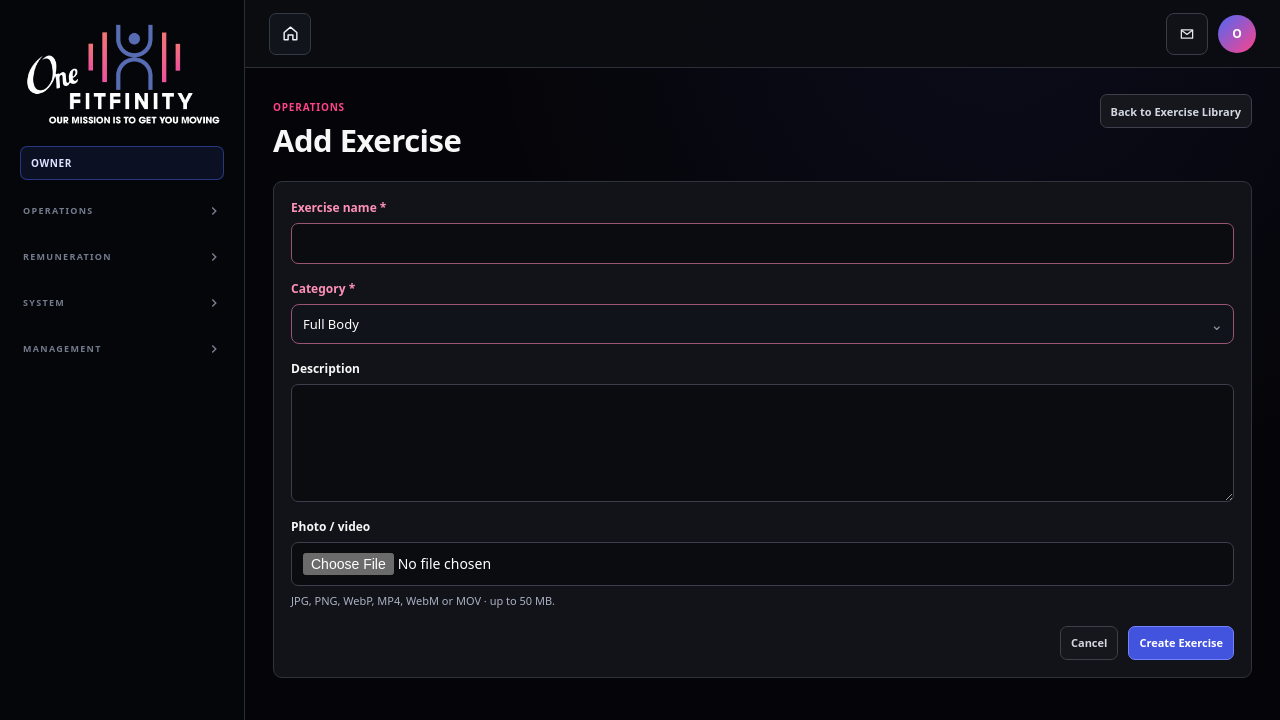
it: exercise library form and summary › freezes an uncertain API draft and checks its original values without another confirmation
Type "Original movement" into the field labelled "Exercise name" at coordinates (762, 244), box [291, 223, 1234, 264]
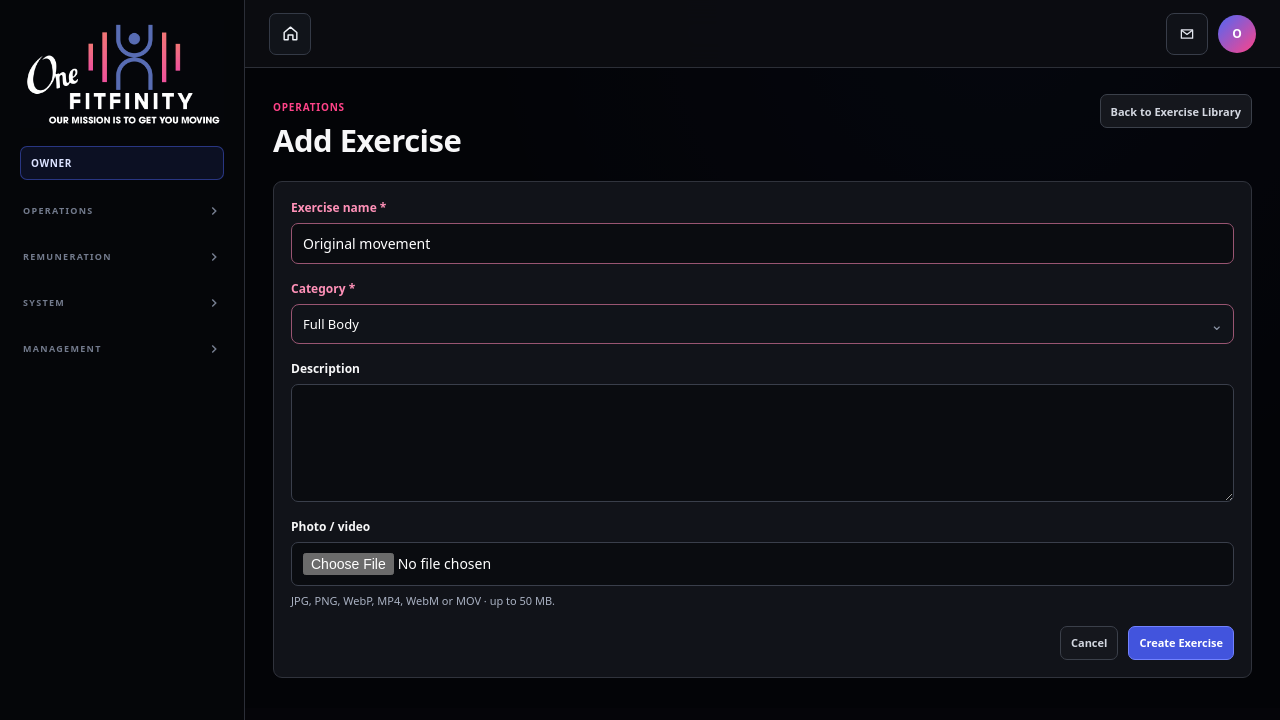
Click the button "Create Exercise" at coordinates (1181, 642), box [1128, 626, 1234, 660]
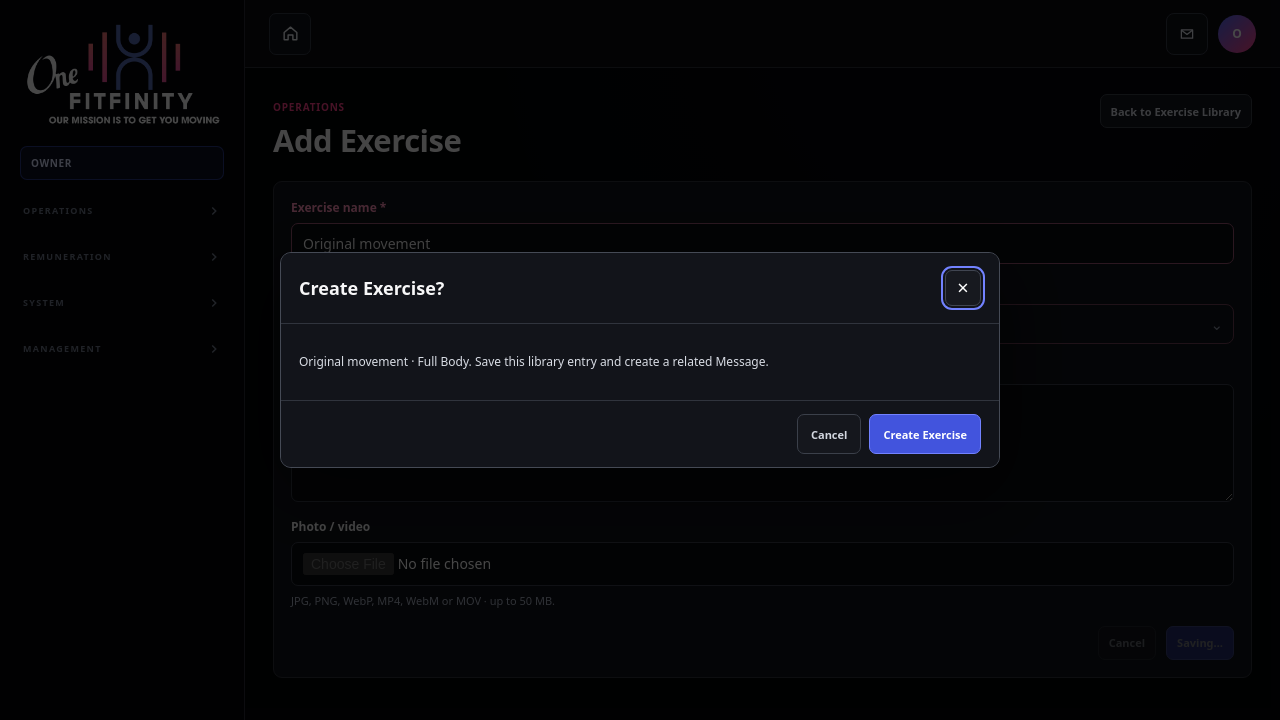
Click the button "Create Exercise" at coordinates (925, 434), box [869, 414, 981, 454]
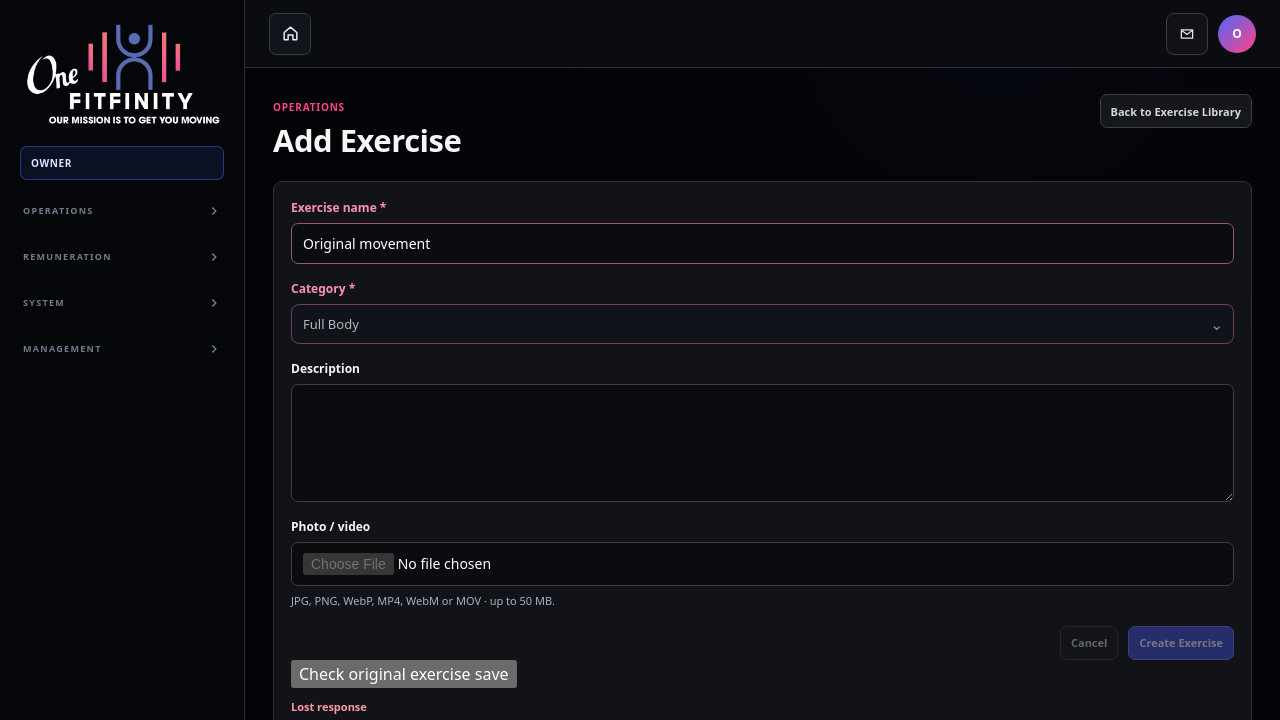
Expected: the field labelled "Exercise name" is disabled, [291, 223, 1234, 264]
Click the button "Check original exercise save" at coordinates (404, 674), box [291, 660, 517, 688]
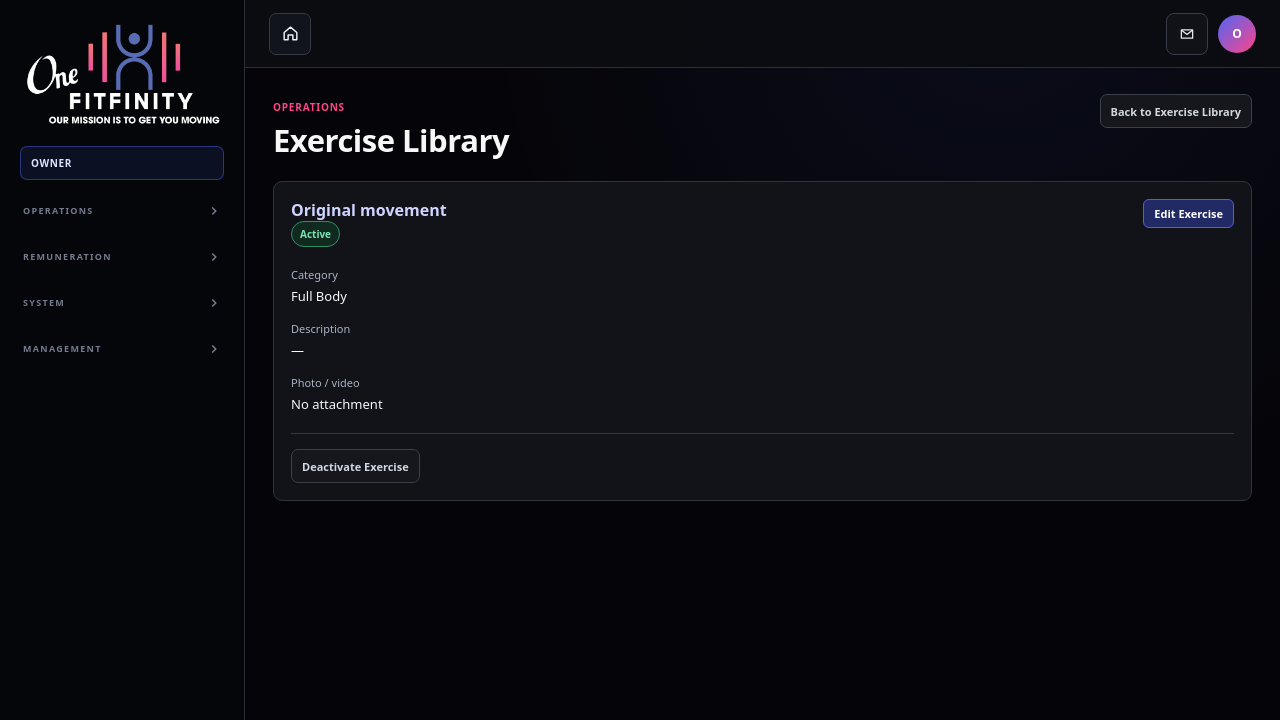
Expected: the heading "Original movement" is shown, [291, 199, 447, 221]
